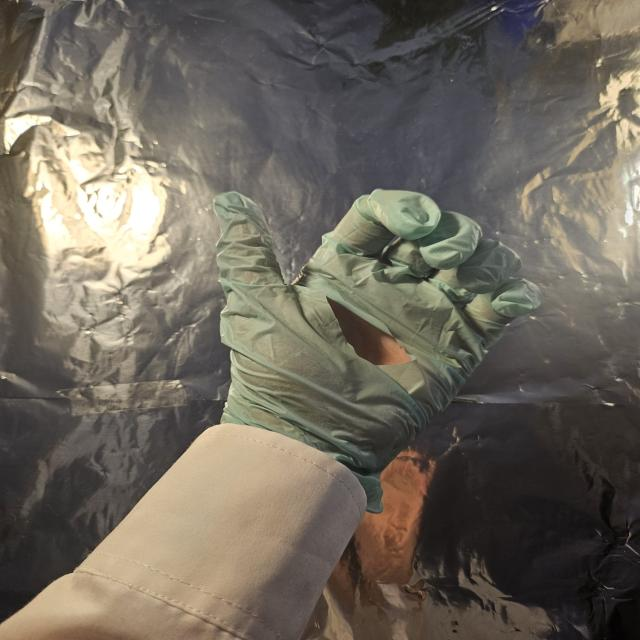gloves_damaged: (214, 186, 546, 497)
